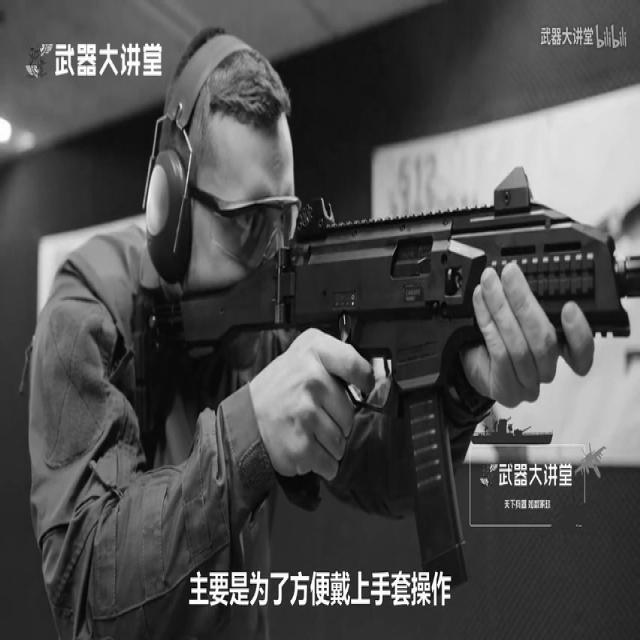Sniper: (65, 127, 640, 573)
